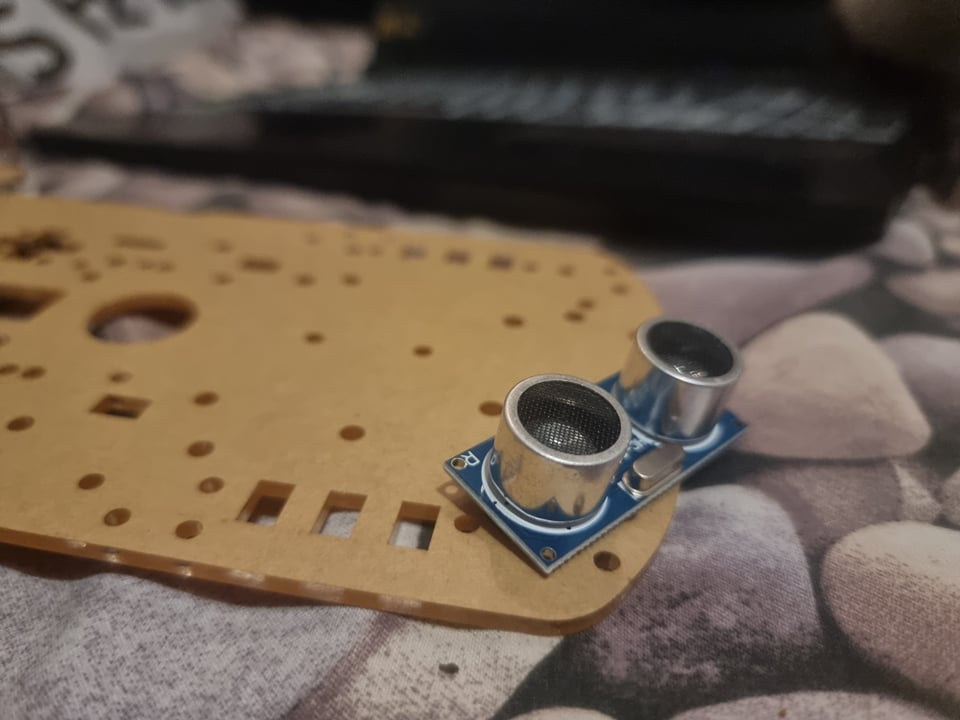SENSOR: (442, 319, 751, 579)
